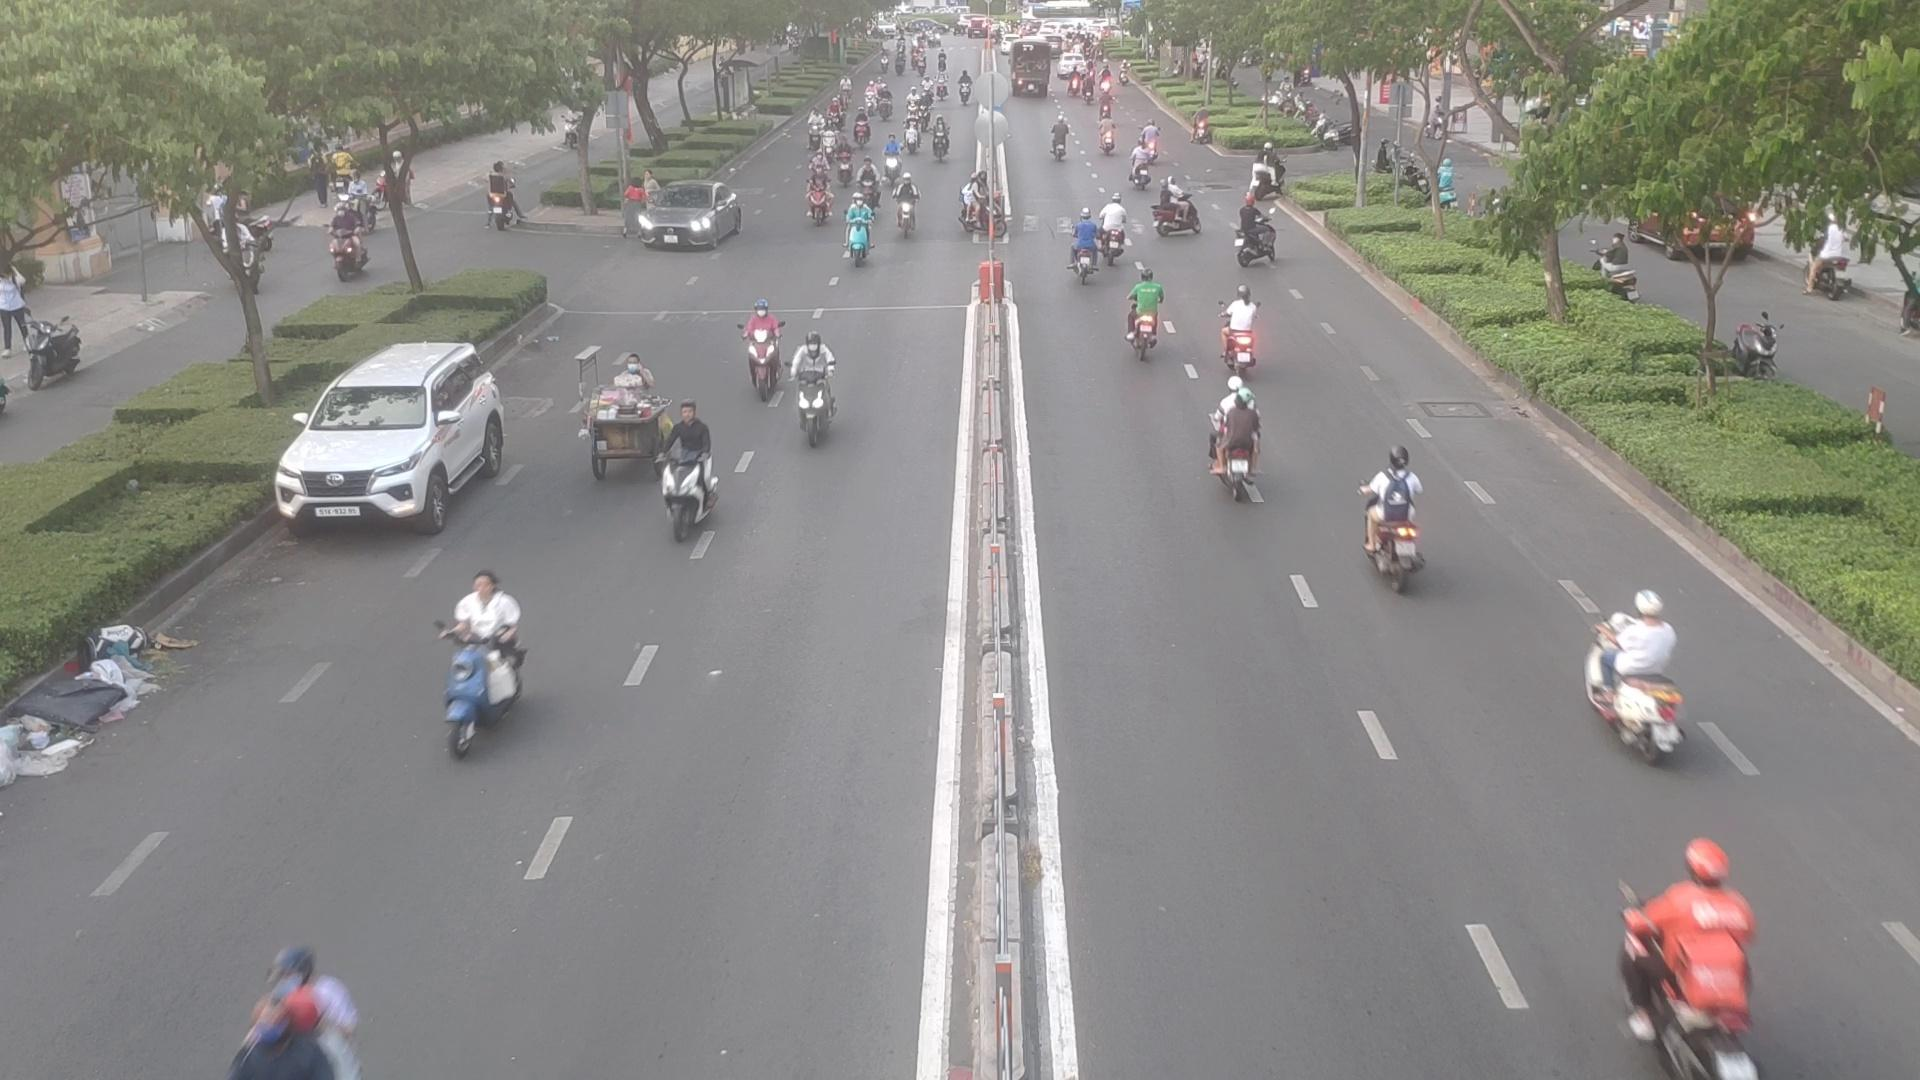car: (276, 339, 520, 526), (622, 187, 750, 255)
motorbike: (1619, 839, 1766, 1077), (208, 952, 367, 1080), (1582, 589, 1692, 754), (440, 575, 539, 745), (650, 401, 727, 533), (1356, 458, 1429, 582), (1207, 389, 1276, 502), (781, 331, 849, 446), (1126, 272, 1178, 360), (740, 299, 786, 394), (1067, 206, 1122, 284), (963, 174, 1019, 245), (1221, 287, 1266, 373), (1234, 203, 1279, 268), (844, 185, 881, 258), (803, 157, 839, 229), (1153, 189, 1200, 241), (894, 164, 920, 244)
